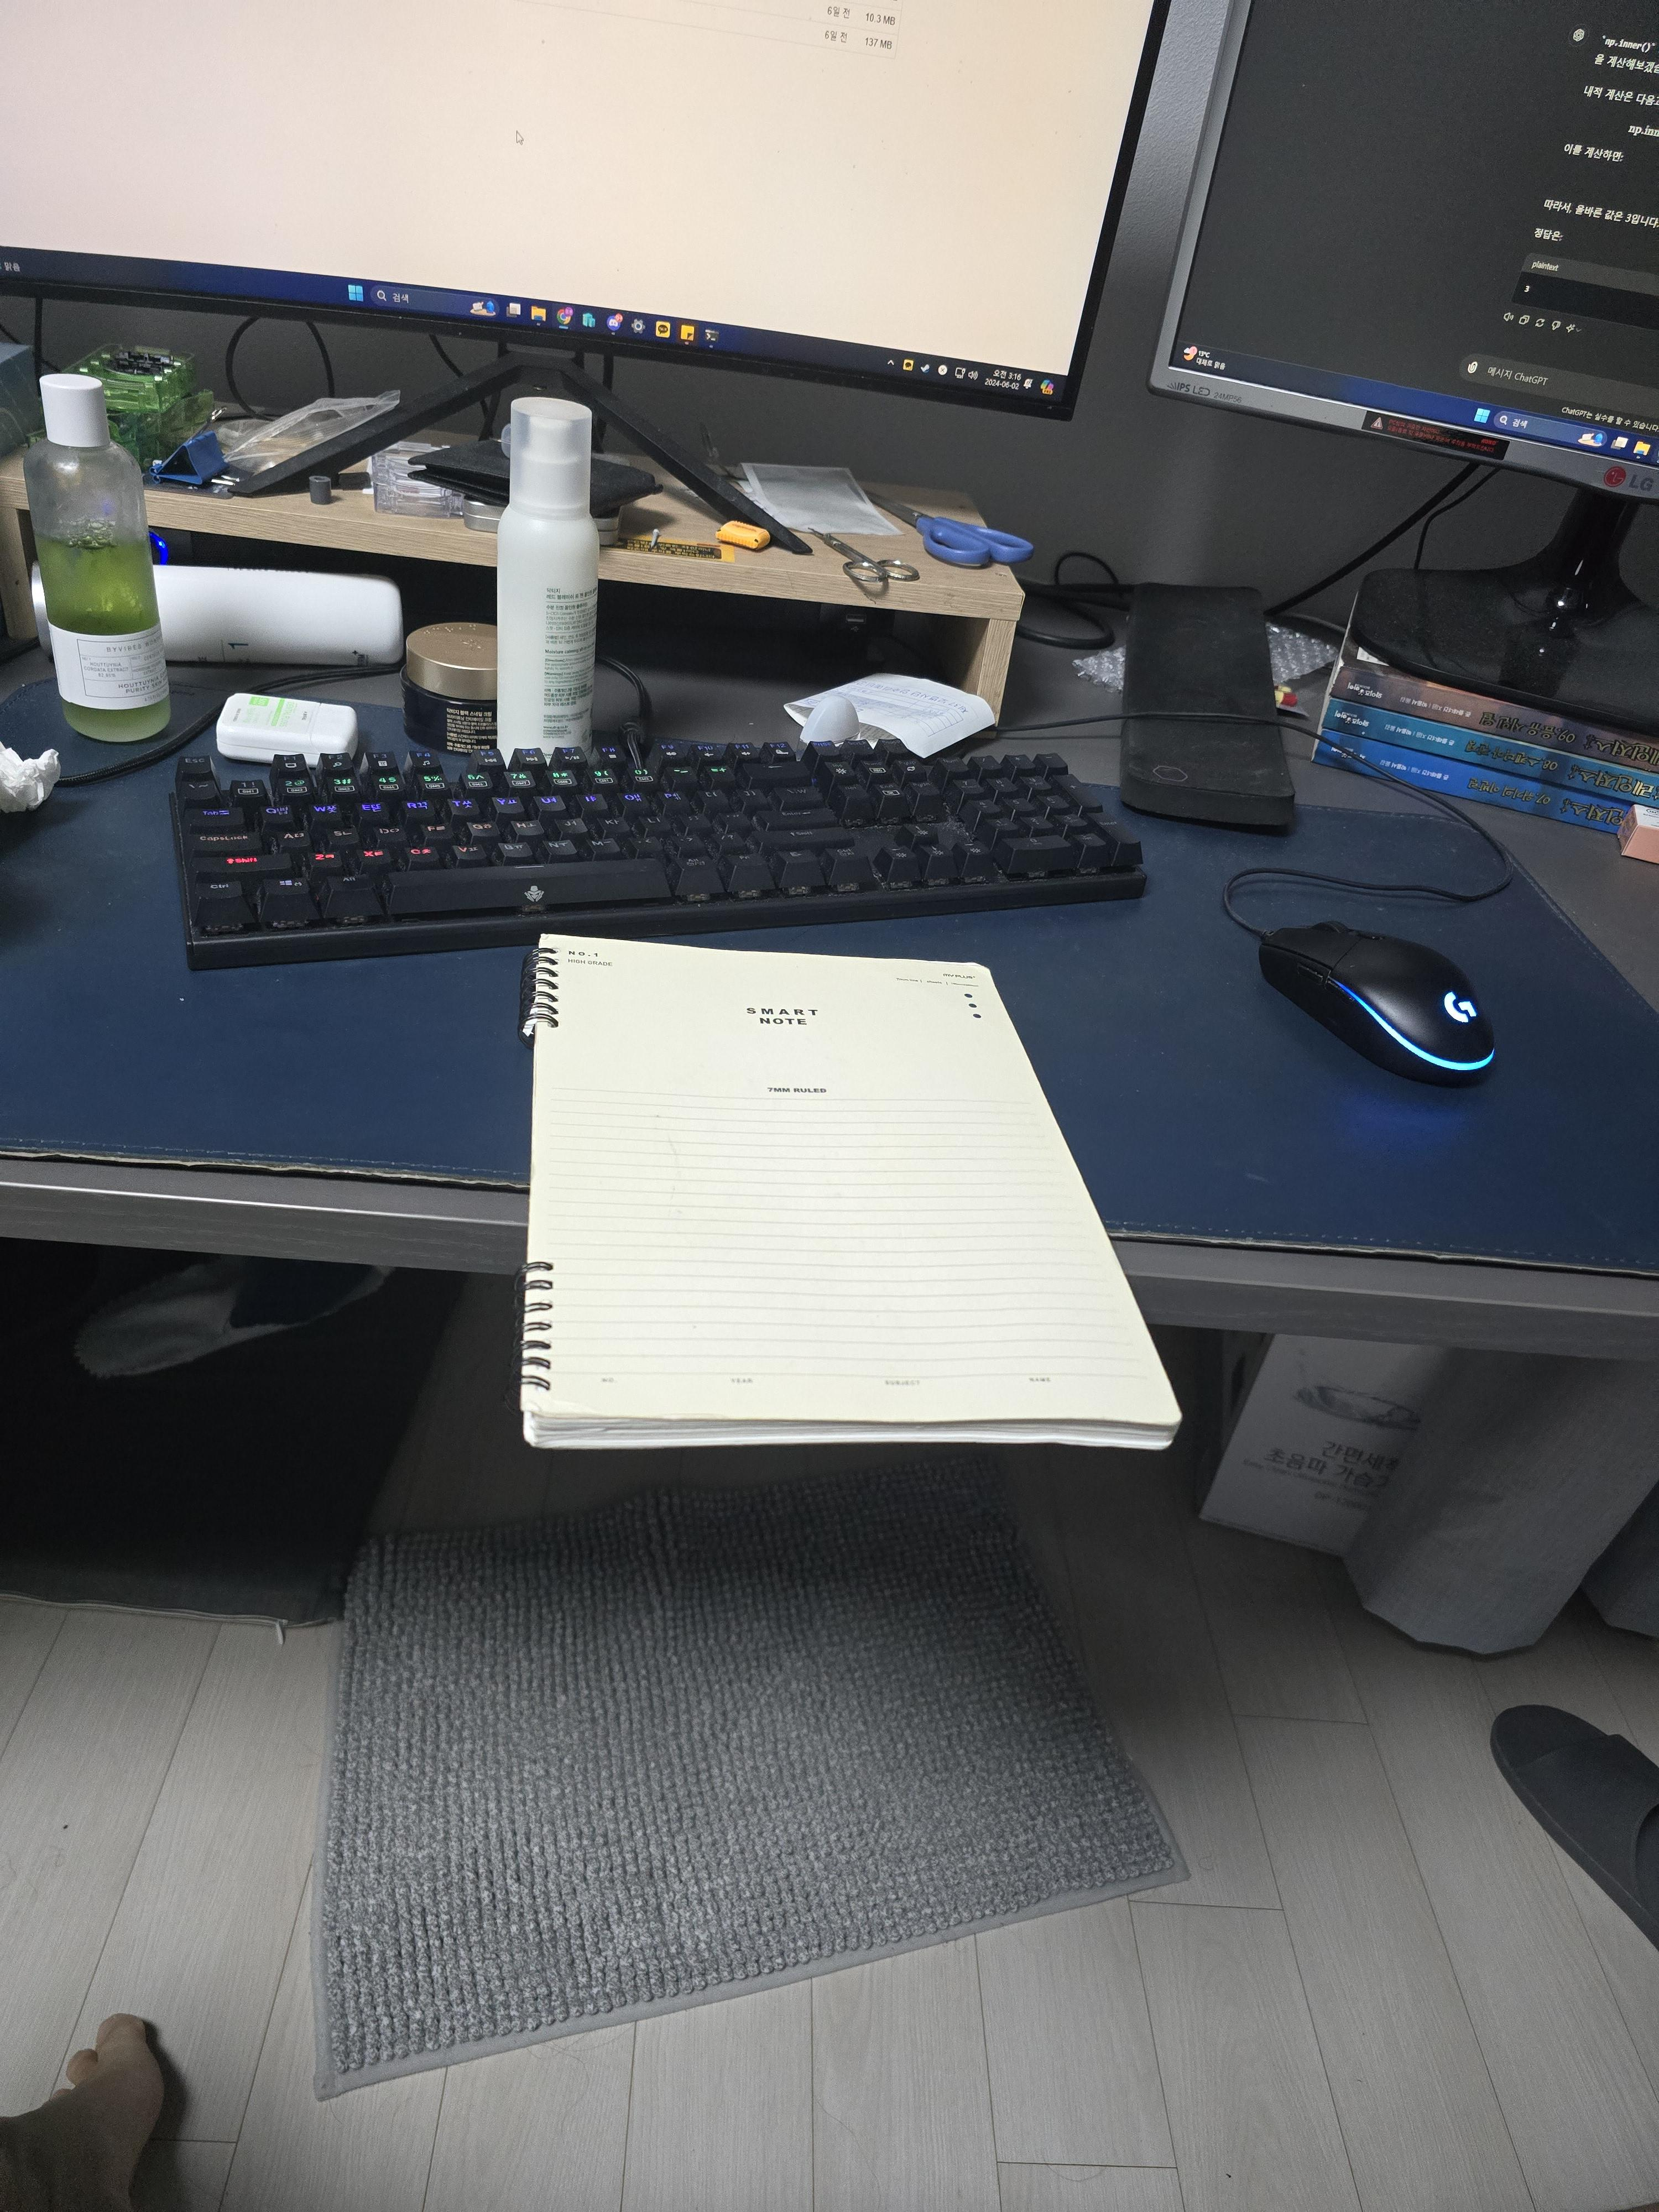book: (519, 935, 1192, 1465)
keyboard: (169, 732, 1148, 972)
mouse: (1255, 918, 1497, 1089)
